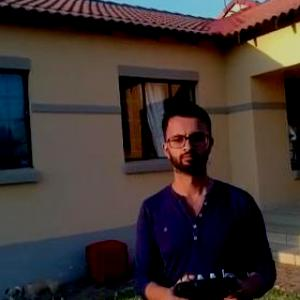follow: (134, 94, 285, 299)
null: (0, 260, 71, 299)
